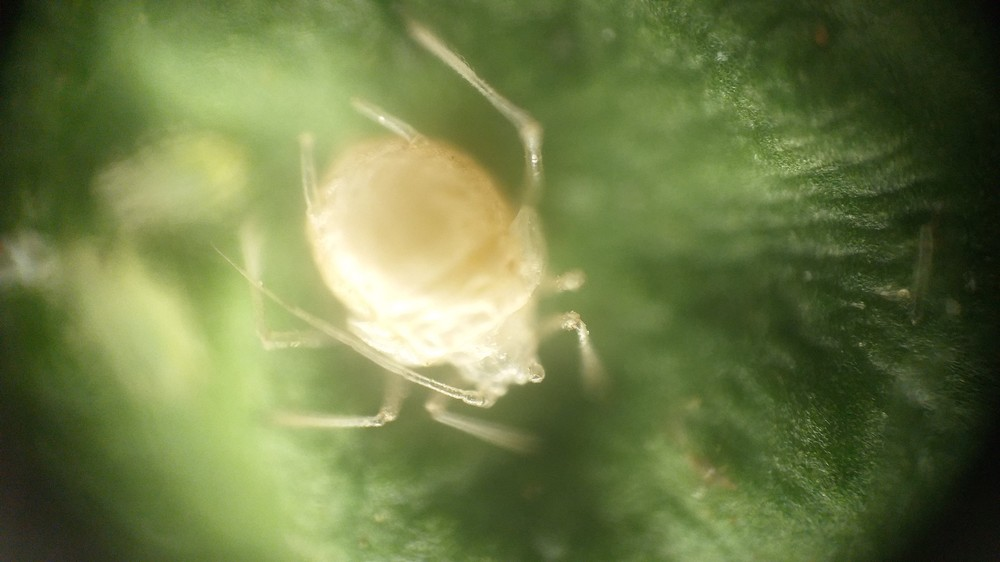Pulgon: (223, 21, 679, 498)
